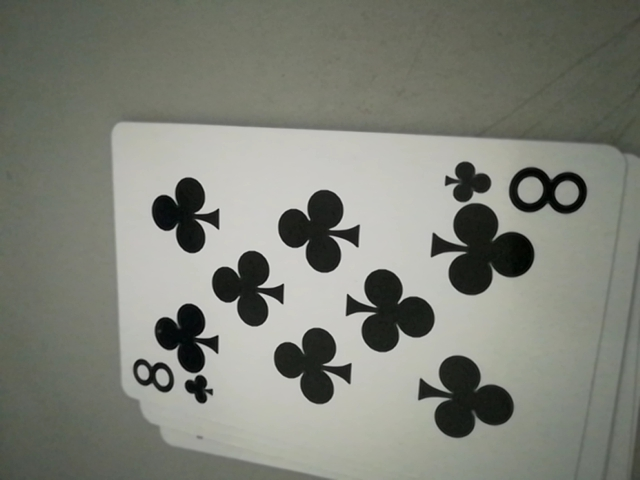mh 8: (443, 157, 589, 215), (127, 356, 214, 411)
